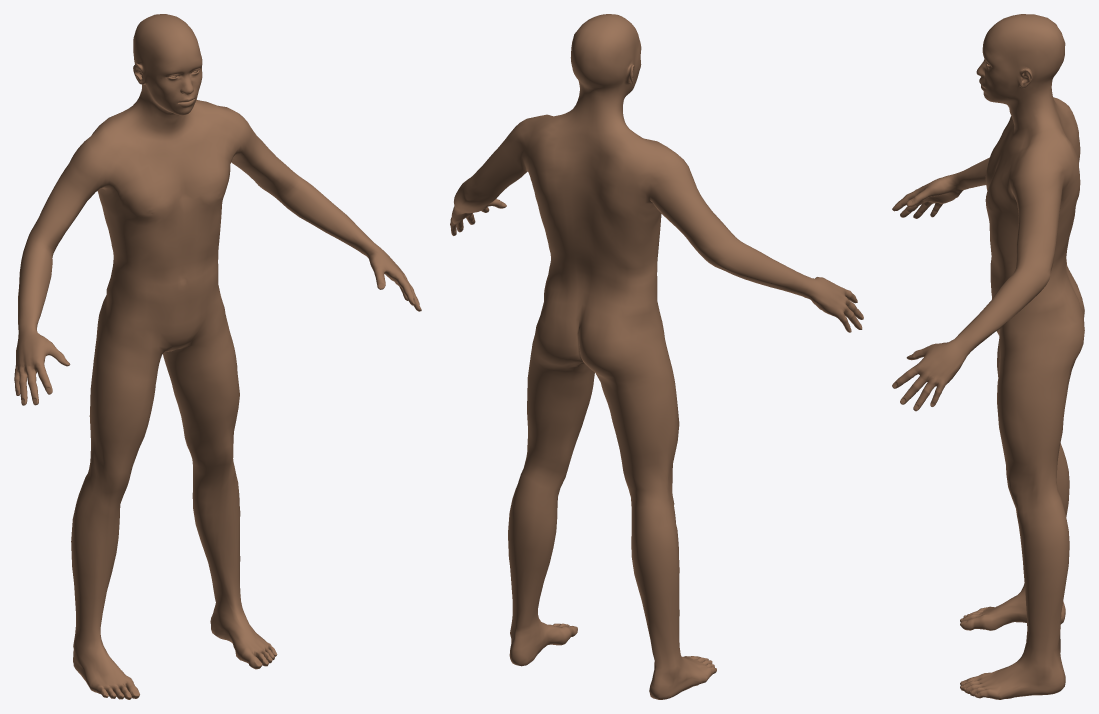
3 views of the same model, side by side, from view 1: azimuth 30°, elevation 25°; view 2: azimuth 150°, elevation 25°; view 3: azimuth 270°, elevation 25° (orthographic).
Visible parts, largest first — view 1: base.obj; view 2: base.obj; view 3: base.obj.
Part boxes in pixels (bbox=[...]): base.obj: bbox=[14, 14, 421, 699]; base.obj: bbox=[450, 14, 863, 699]; base.obj: bbox=[892, 14, 1084, 699].
Bounding box in the file's own units: 11.65 × 18 × 4.9.
